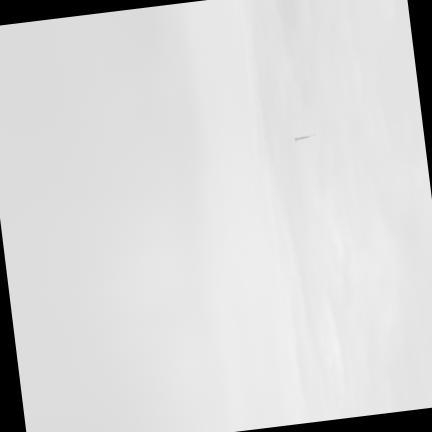Shahed: (294, 134, 313, 141)
